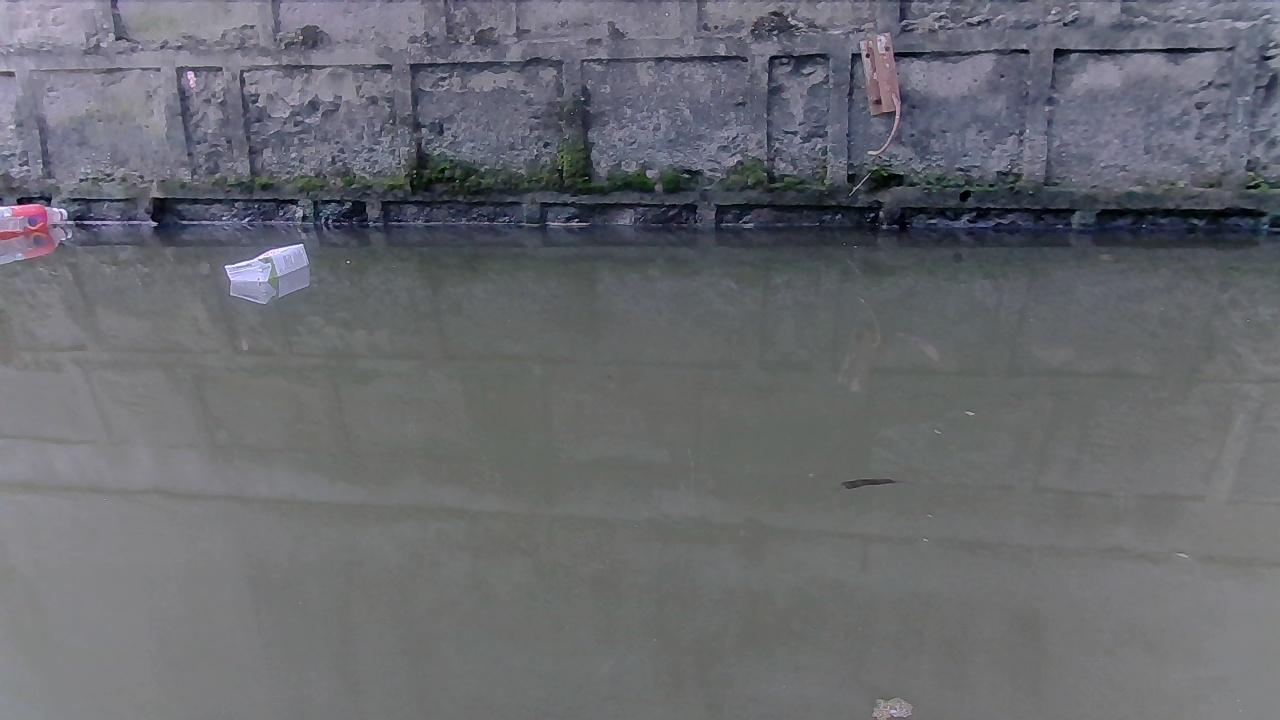bottle: (224, 244, 318, 286), (0, 200, 76, 235)
